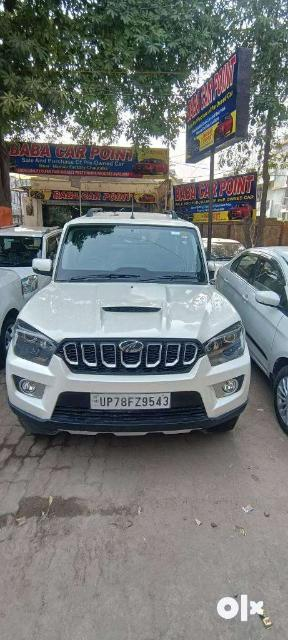Indian_Number_Plate: (92, 392, 170, 408)
